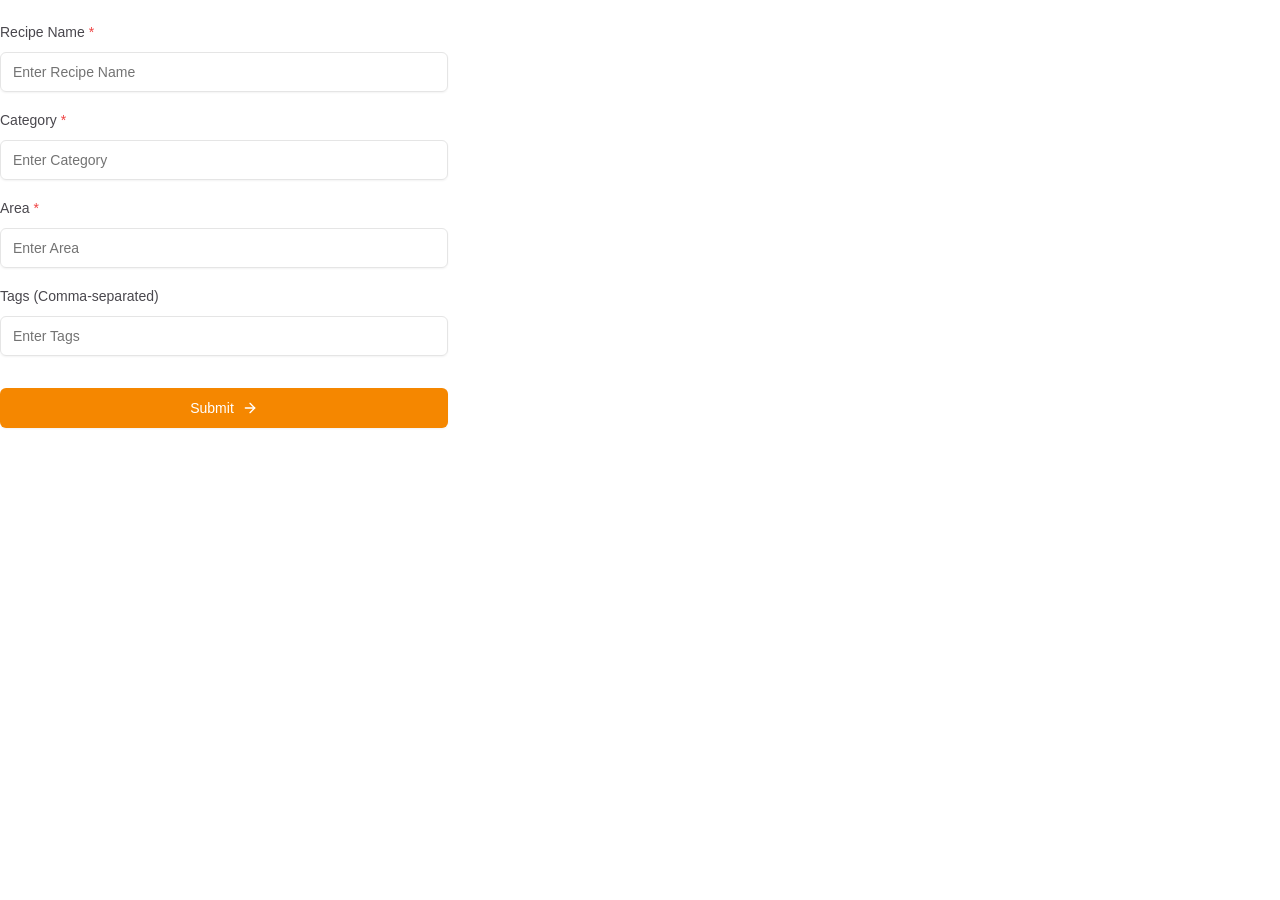
RecipeForm Component › submits the form and shows the success drawer
The width and height of the screenshot is (1280, 900).
# Fill in the fields
Type "Spaghetti Bolognese" into the field labelled "Recipe Name *".
click(224, 72); type("Spaghetti Bolognese")  # box 0,52 -> 448,92
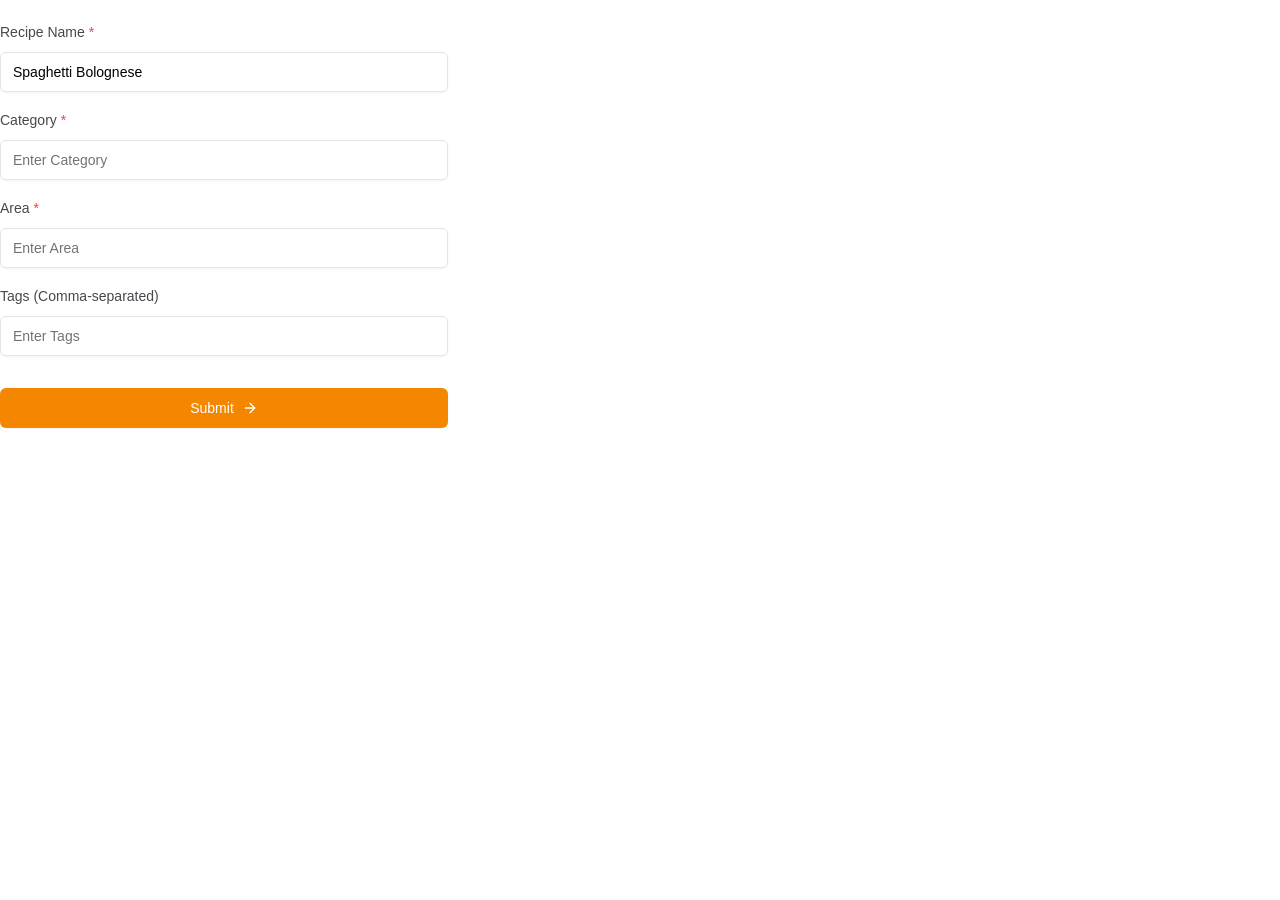
Type "Pasta" into the field labelled "Category *".
click(224, 160); type("Pasta")  # box 0,140 -> 448,180
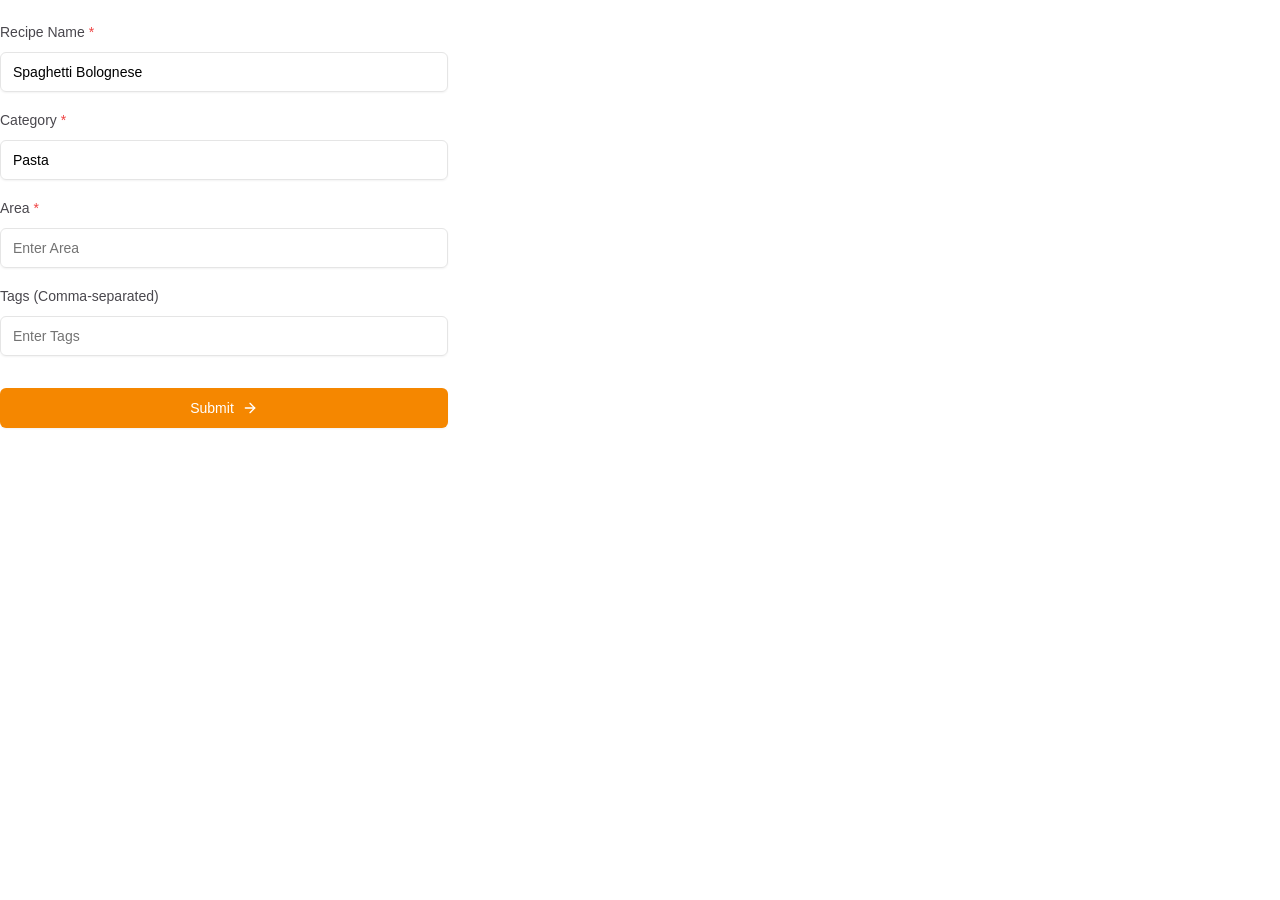
Type "Italian" into the field labelled "Area *".
click(224, 248); type("Italian")  # box 0,228 -> 448,268
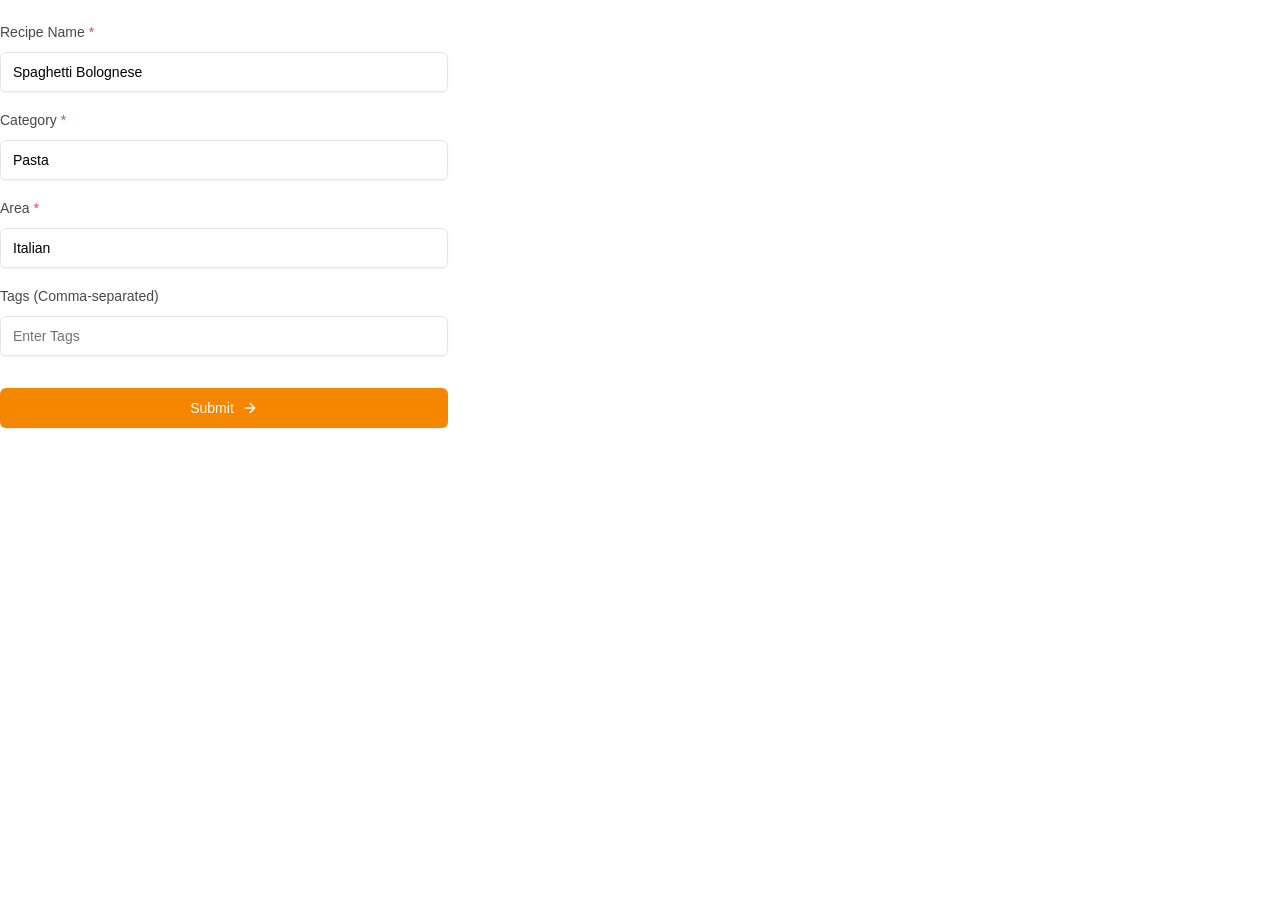
Type "Dinner,Easy" into the field labelled "Tags (Comma-separated)".
click(224, 336); type("Dinner,Easy")  # box 0,316 -> 448,356
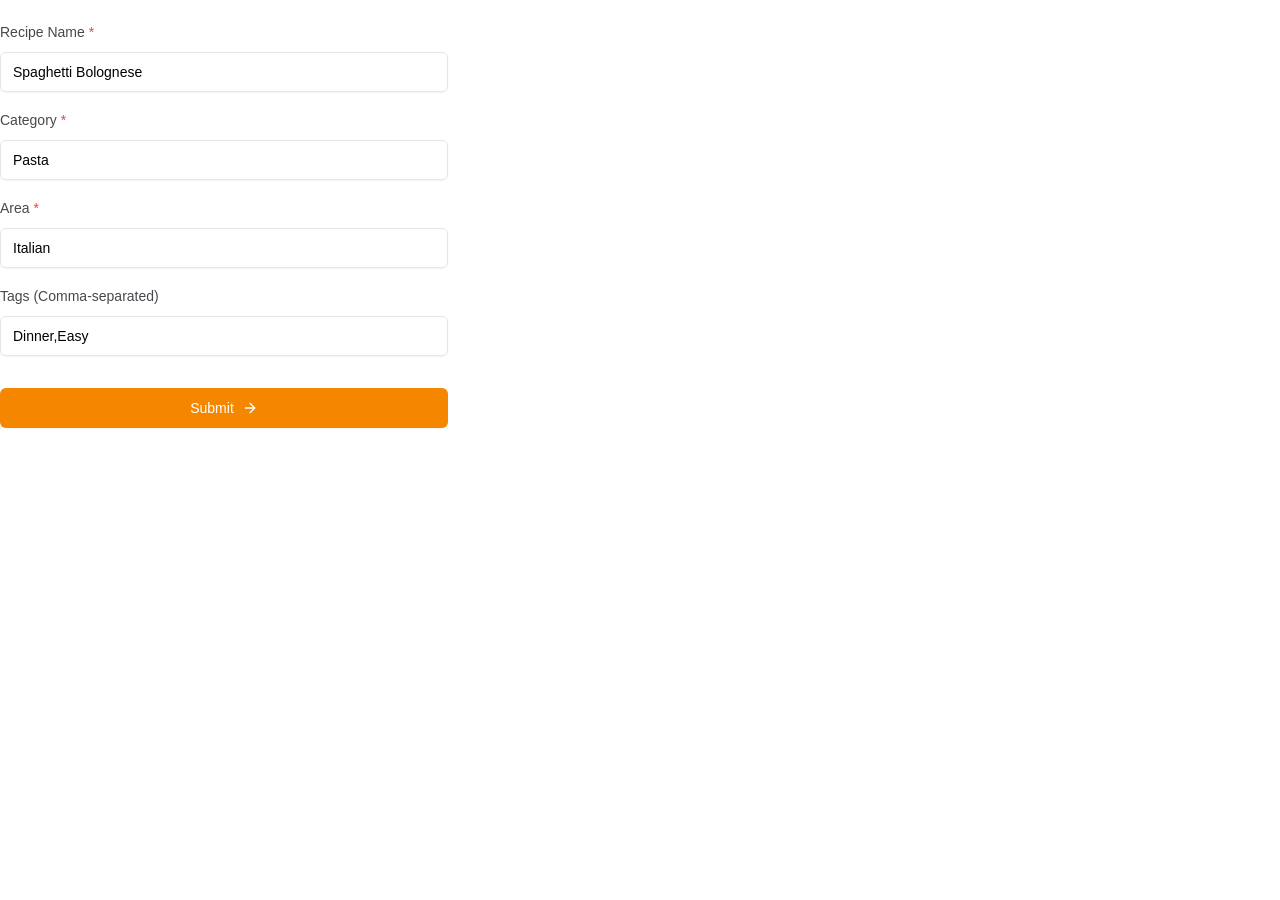
# Submit the form
Click the button "Submit".
click(224, 408)  # box 0,388 -> 448,428
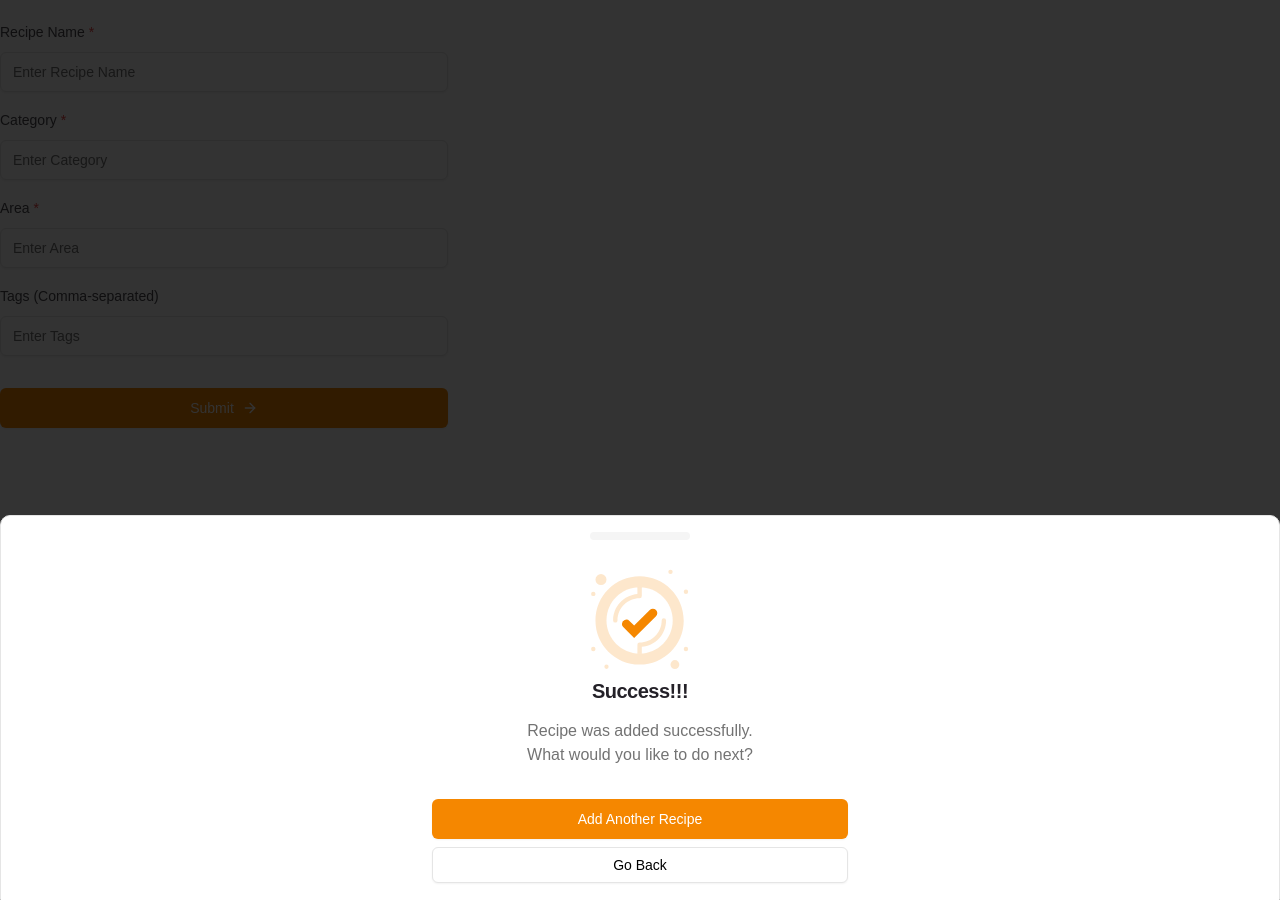
Expected: the heading "Success!!!" is shown, 584,564 -> 696,702
Expected: the text "Recipe was added successfully." is shown, 527,722 -> 753,739
